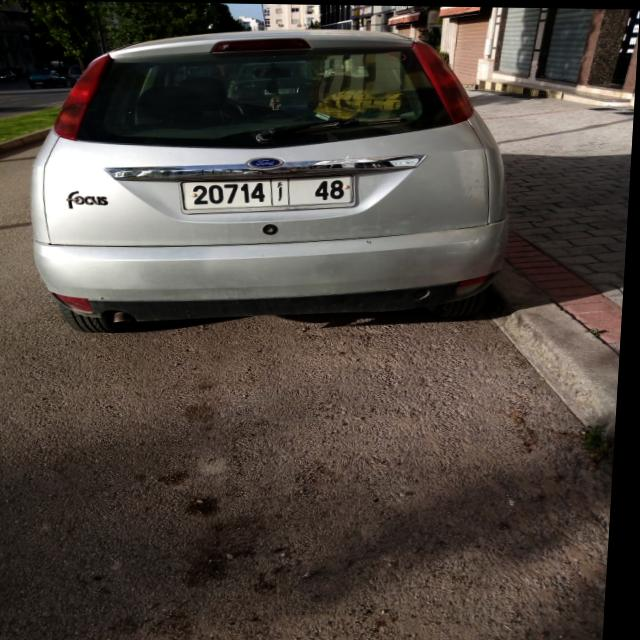License-Plate: (185, 174, 357, 211)
